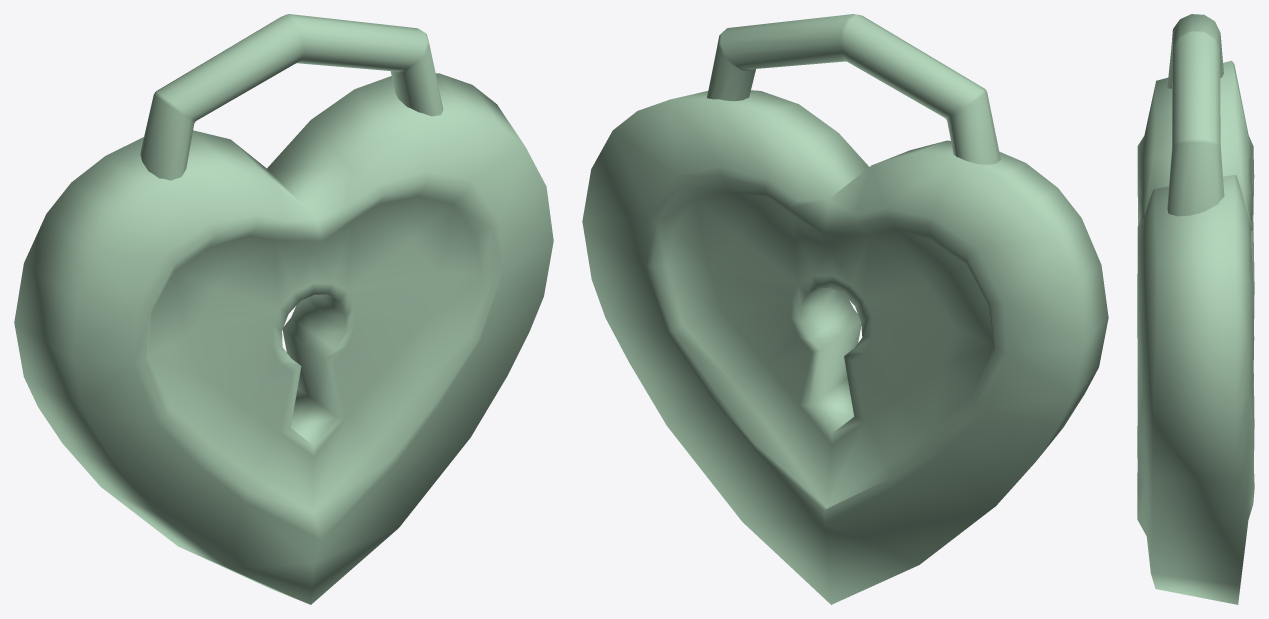
Rendered from lock.fbx.
3 renders of one model, left to right at view 1: azimuth 30°, elevation 25°; view 2: azimuth 150°, elevation 25°; view 3: azimuth 270°, elevation 25°, orthographic. The views are drawn at different scales.
Visible parts, largest first — view 1: lock_low; view 2: lock_low; view 3: lock_low.
Boxes of the visible parts, x1=… form: lock_low: x1=14, y1=14, x2=553, y2=604; lock_low: x1=582, y1=14, x2=1108, y2=604; lock_low: x1=1137, y1=14, x2=1254, y2=604.
Bounding box in the file's own units: 136 × 27.52 × 148.
